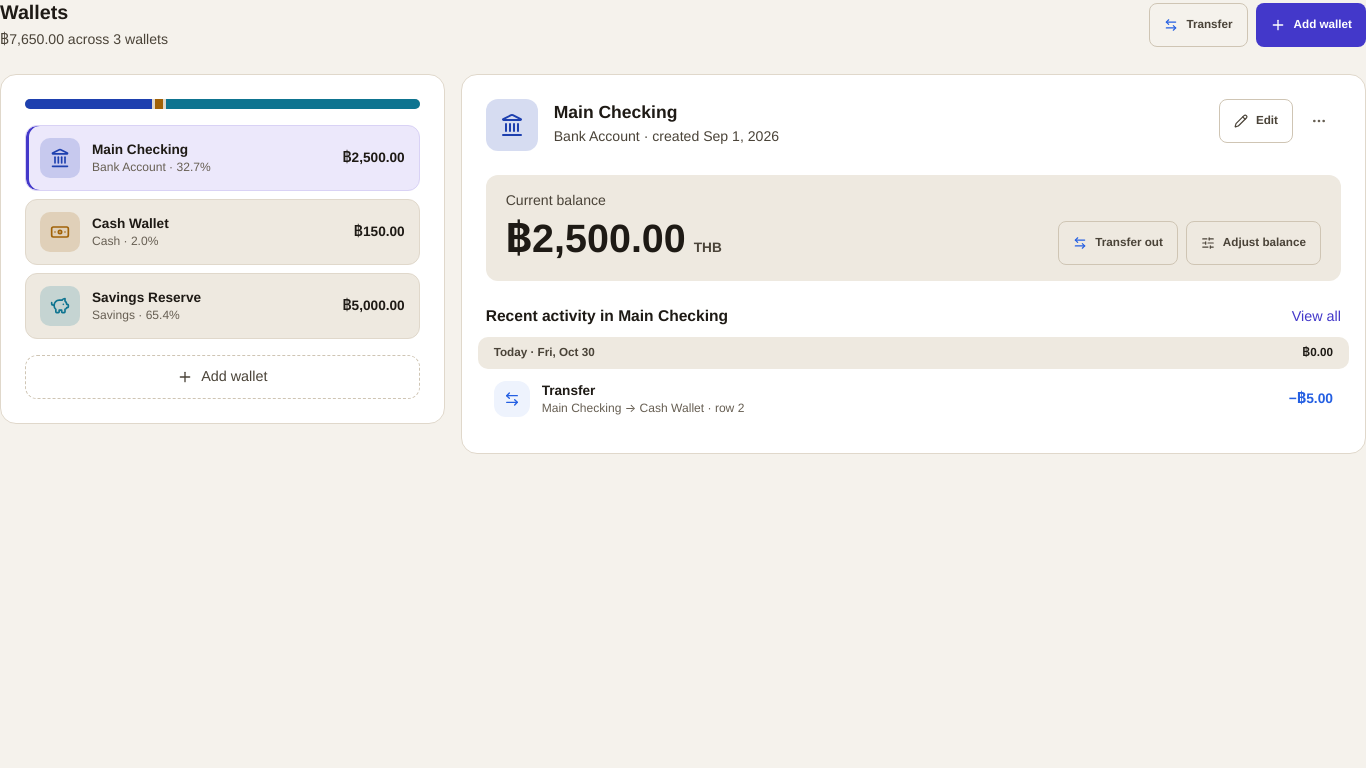
Test: delete › says what happens to the wallet's transactions and balance, then falls back to the first wallet
Click the button with id "wallet-entity-wal-cash" at (60, 232), box [25,199,420,265]
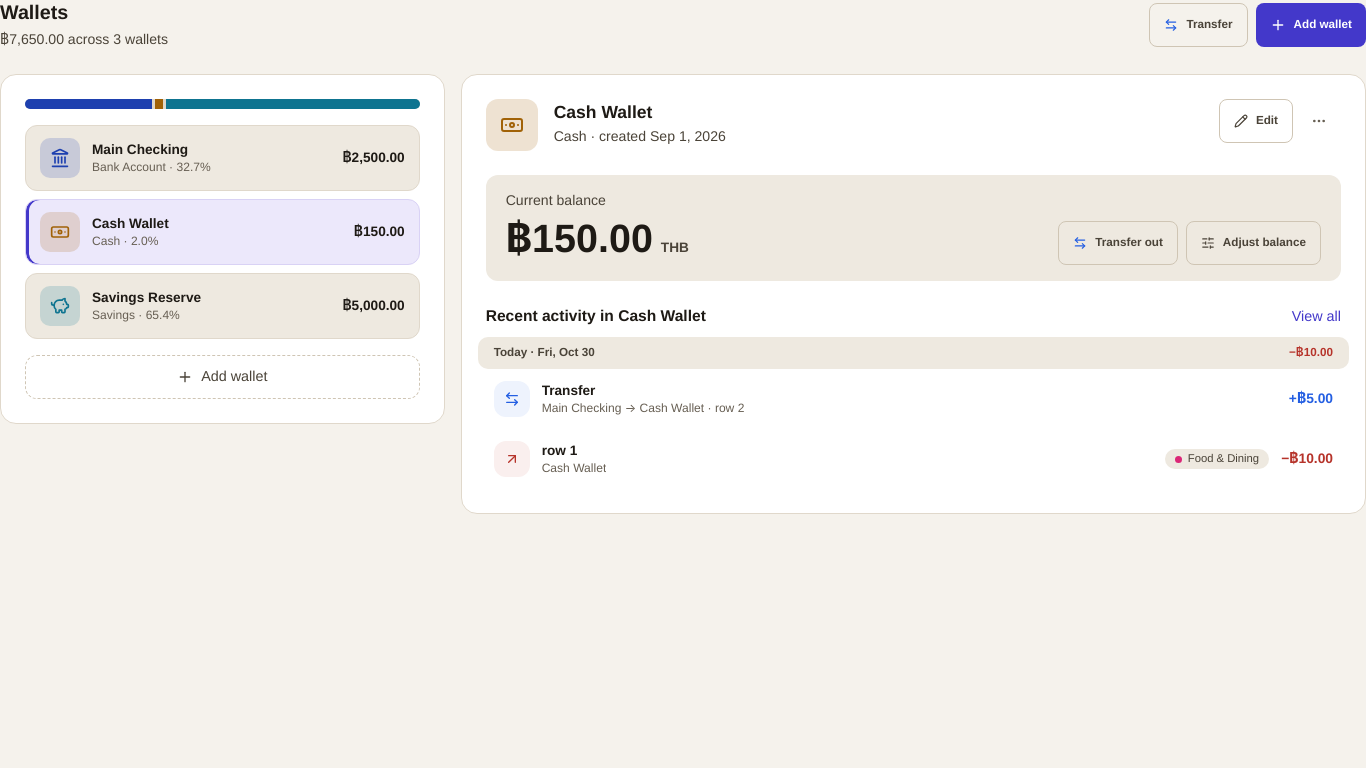
Click the button with id "wallet-detail-menu-btn" at (1319, 121), box [1297,99,1341,143]
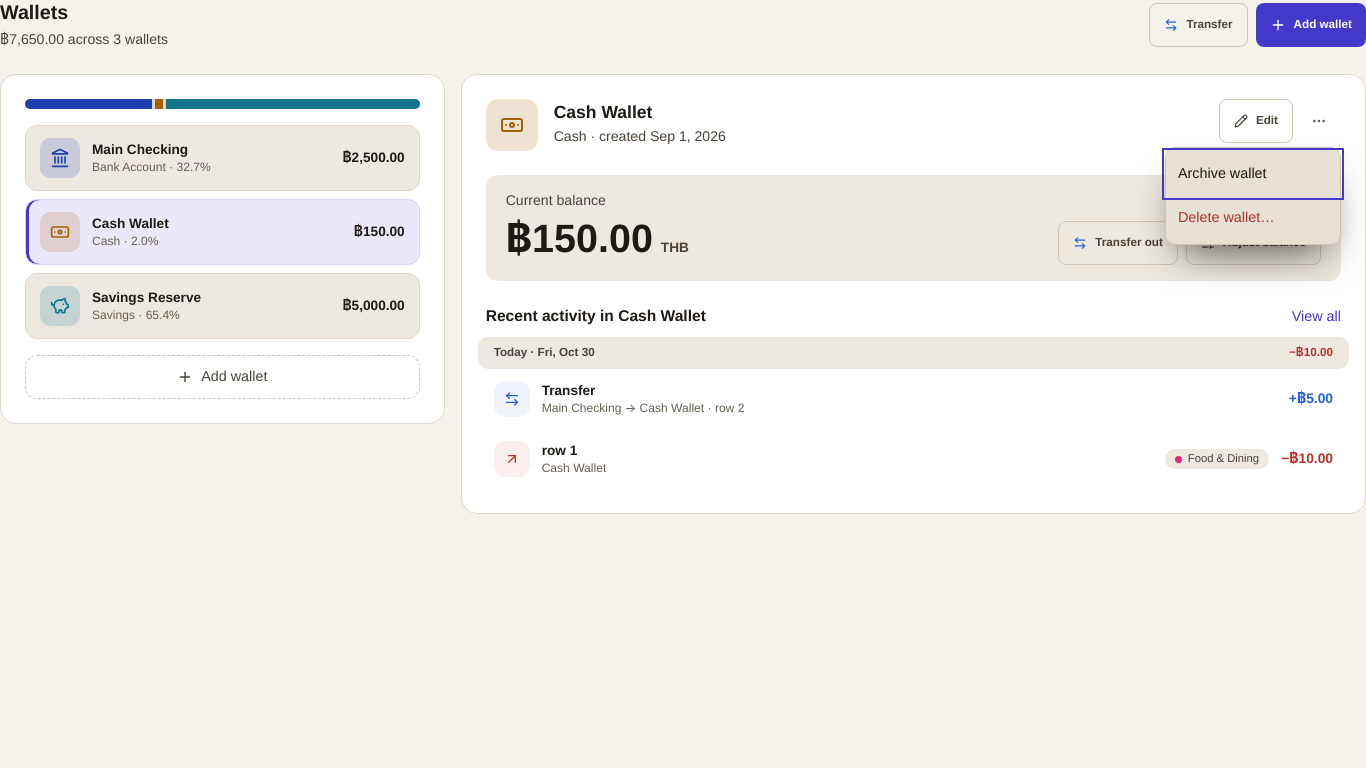
Click the menu item with id "wallet-delete-wal-cash" at (1253, 218), box [1166,196,1340,240]
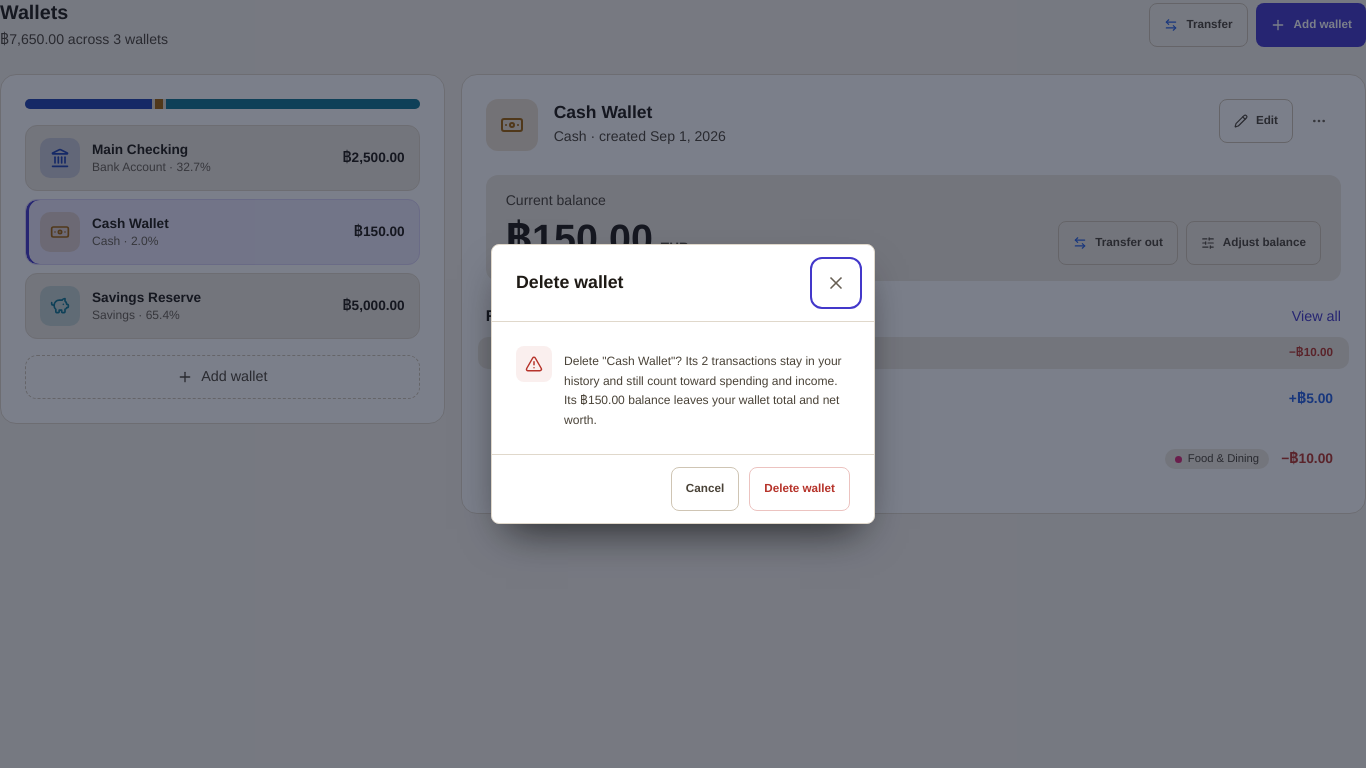
Expected: the dialog "Delete wallet" shows "Its 2 transactions stay in your history and still count toward spending and income.", [564,352,842,430]
Click the button with id "confirm-destructive-btn" at (800, 489), box [749,467,850,511]
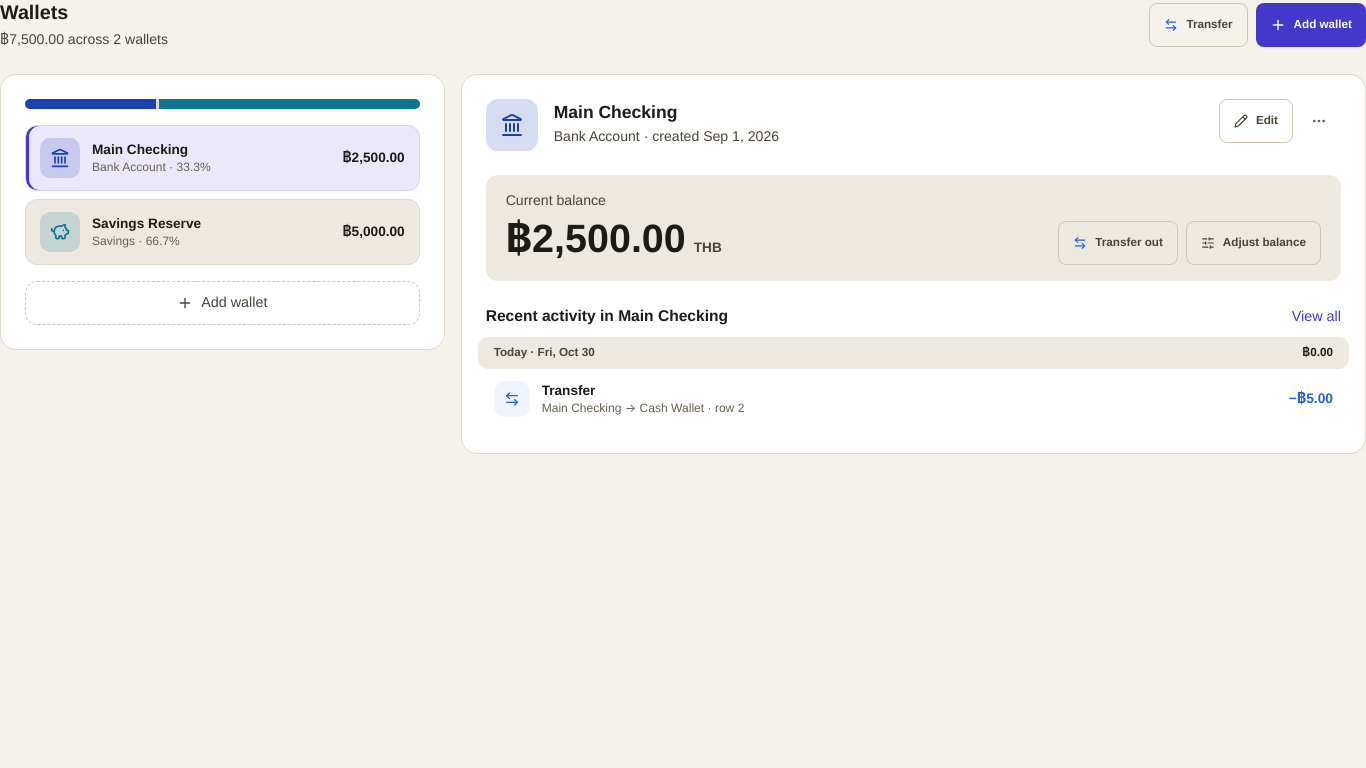
Expected: the button with id "wallet-entity-wal-cash" is gone
Expected: the heading with id "wallet-detail-title" reads "Main Checking", [554,98,677,128]
